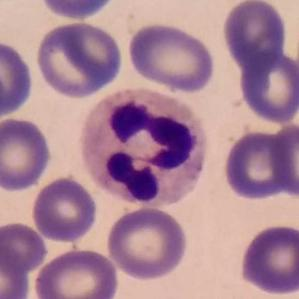Neutrophil: (73, 83, 213, 214)
RBC: (33, 19, 126, 101), (125, 20, 218, 94), (104, 204, 190, 282), (220, 127, 297, 203), (220, 0, 290, 71), (235, 48, 298, 125), (30, 174, 99, 244), (32, 245, 121, 299), (237, 222, 298, 297), (0, 115, 54, 193), (0, 37, 36, 120), (0, 219, 49, 275), (268, 122, 299, 201), (36, 0, 125, 22), (0, 242, 32, 299)
